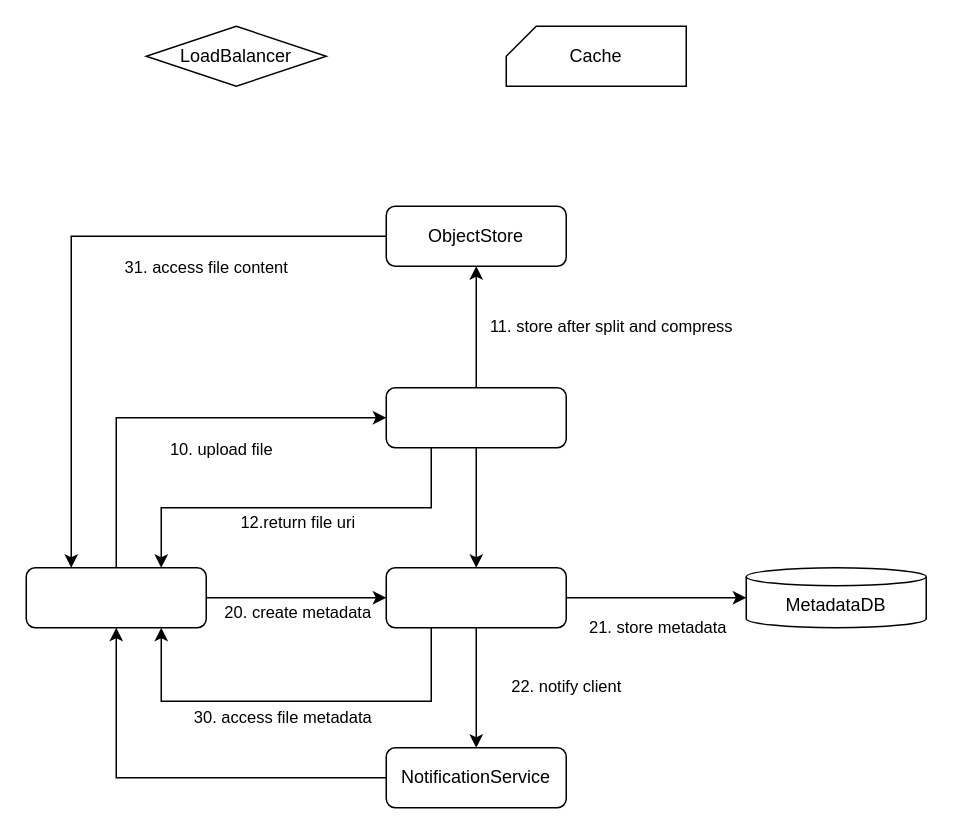
Some shapes in this 953 by 834 pixel diagram are drawn without their labels. The centre of each missing label's shape, as x and y in pixels:
"ApplicationServer" belongs at point (475, 597).
"BlockServer" belongs at point (475, 417).
"Client" belongs at point (115, 597).
